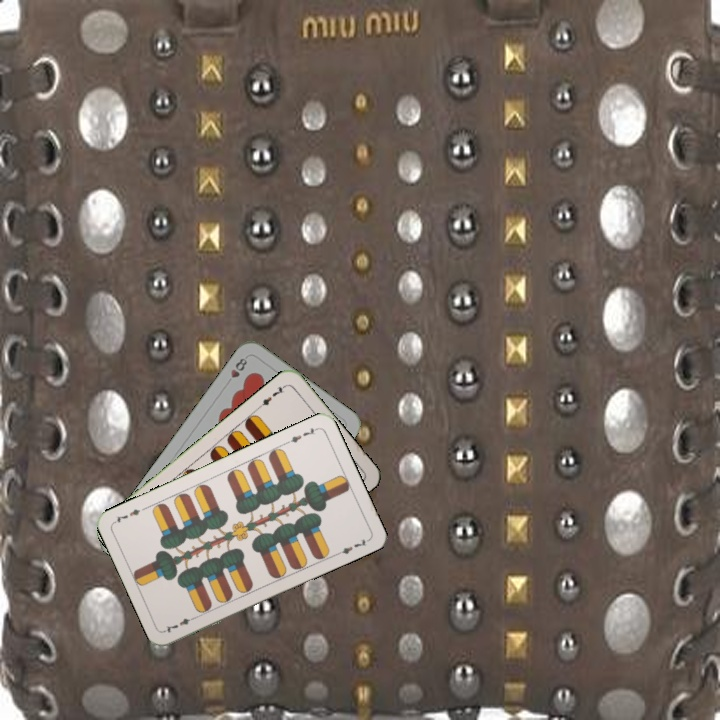E7: (254, 381, 289, 411), (161, 612, 199, 635), (282, 424, 321, 446)
H8: (222, 354, 250, 388)
